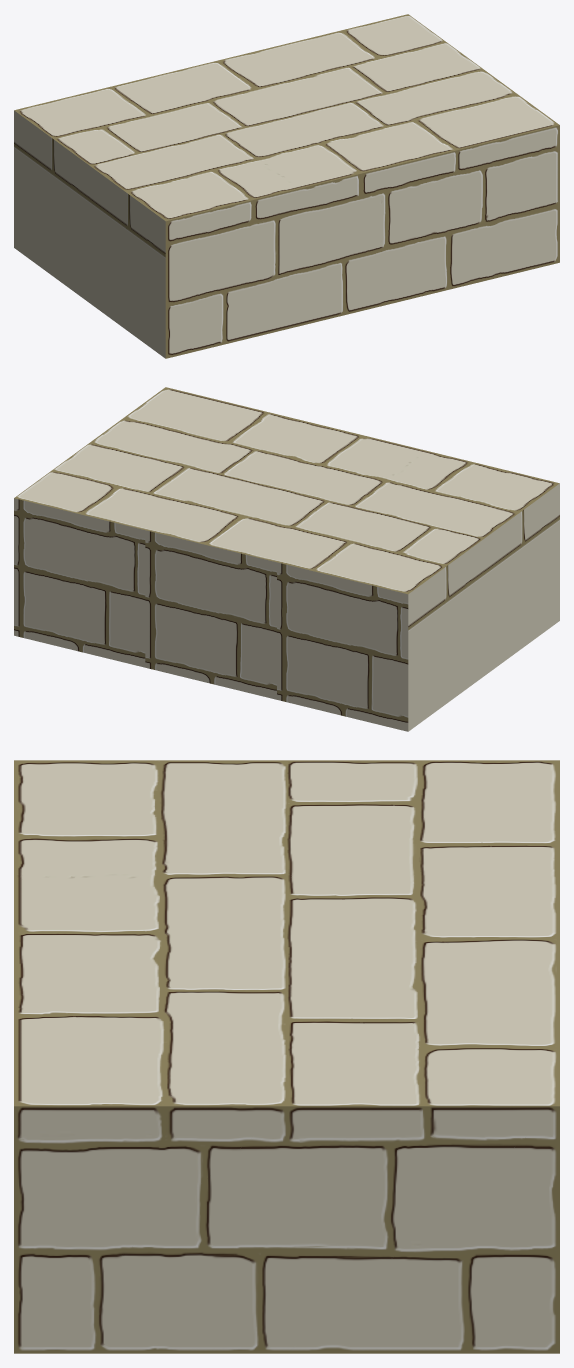
The model's file is Platform_One.fbx.
3 renders of one model, top to bottom at view 1: azimuth 30°, elevation 25°; view 2: azimuth 150°, elevation 25°; view 3: azimuth 270°, elevation 25°, orthographic. The views are drawn at different scales.
Visible parts, largest first — view 1: Platform_One:pCube4084; view 2: Platform_One:pCube4084; view 3: Platform_One:pCube4084.
Part boxes in pixels (x1=…): Platform_One:pCube4084: x1=14, y1=14, x2=559, y2=358; Platform_One:pCube4084: x1=14, y1=387, x2=559, y2=731; Platform_One:pCube4084: x1=14, y1=760, x2=559, y2=1353.
Bounding box in the file's own units: 3 × 1 × 2.
